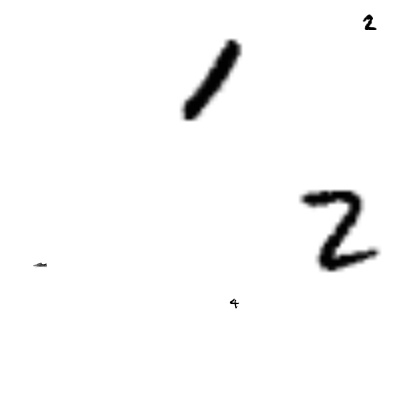1: (153, 24, 265, 136)
2: (280, 171, 392, 283), (358, 12, 380, 34)
4: (227, 296, 241, 310)
Sneaker: (33, 258, 47, 272)
